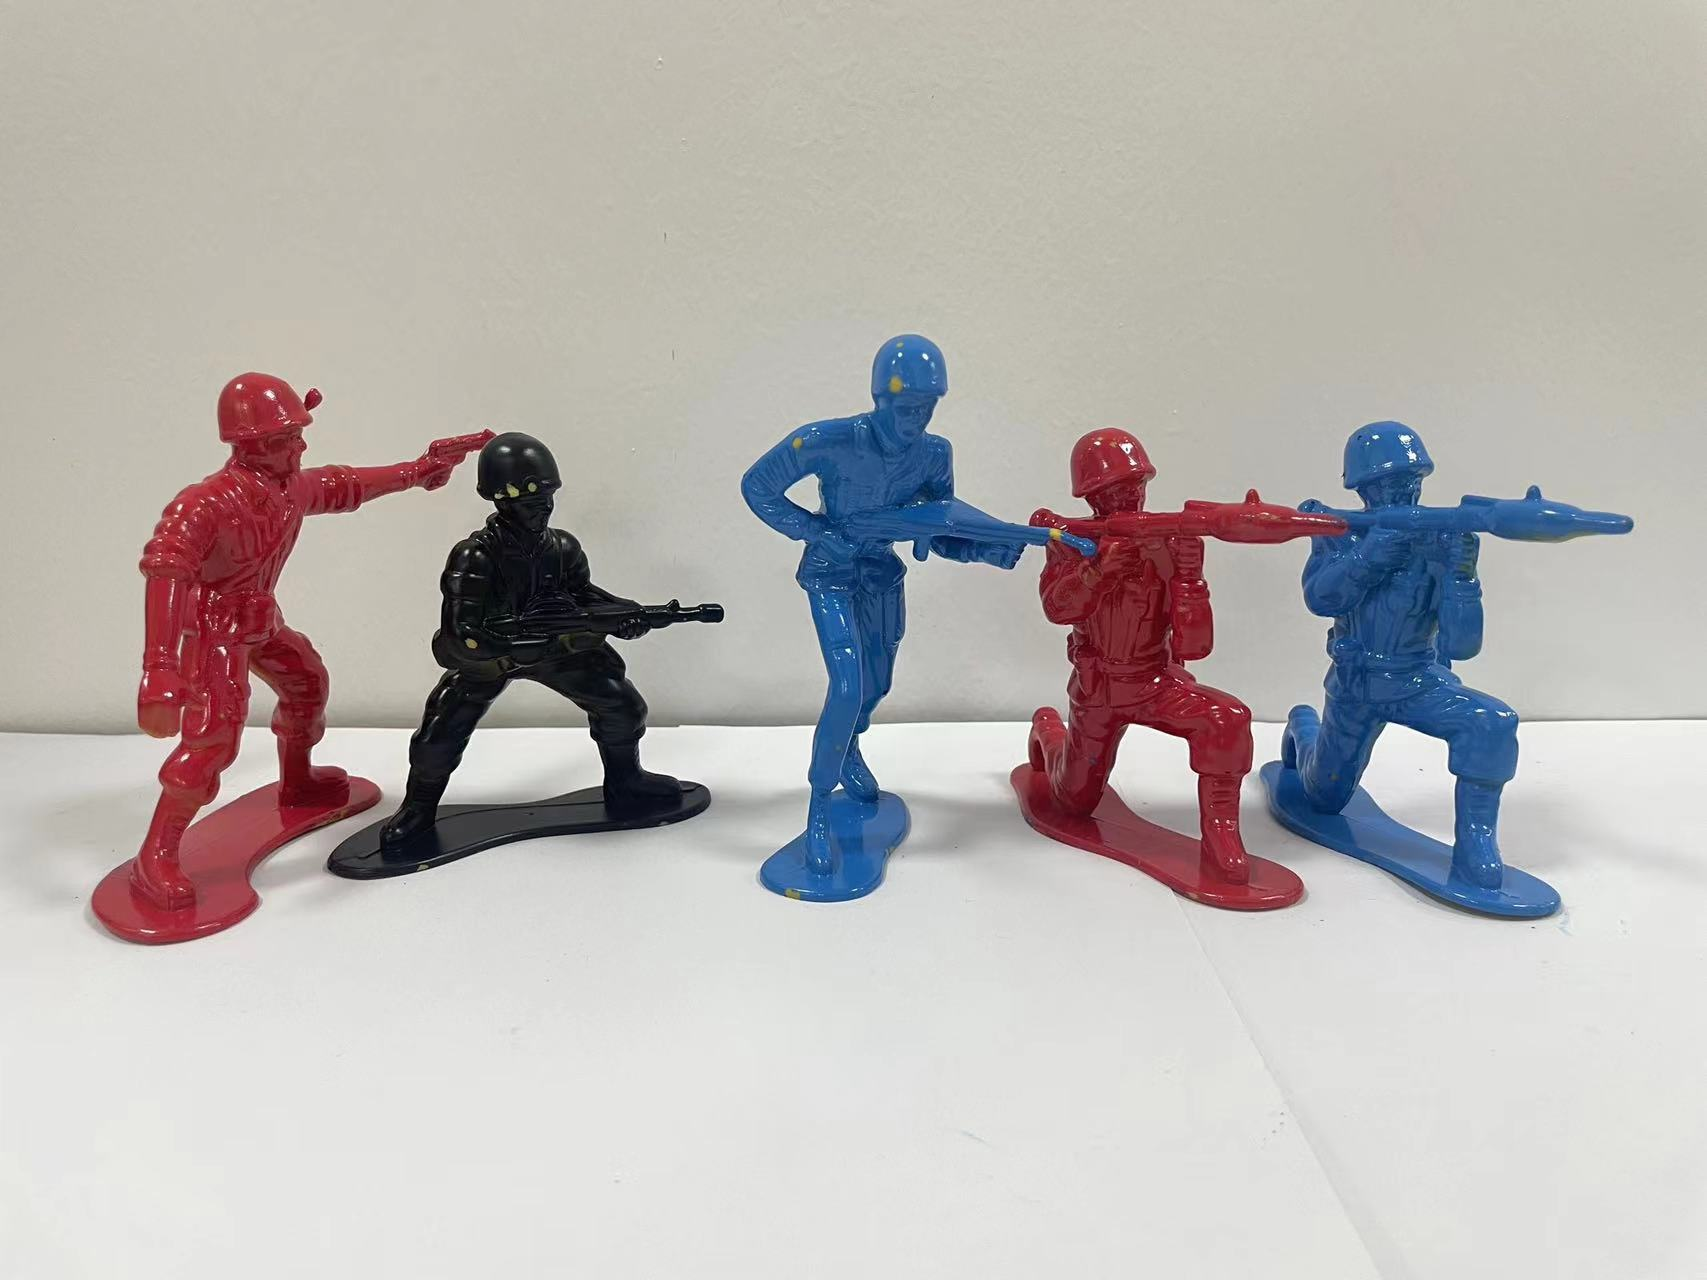black: (403, 385, 745, 894)
blue: (712, 272, 1026, 965), (1276, 415, 1656, 975)
red: (56, 319, 417, 977), (1009, 395, 1301, 908)
